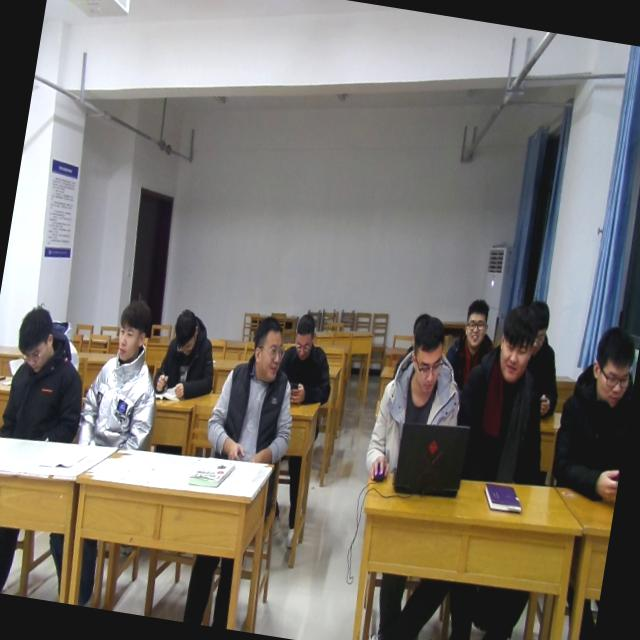down: (583, 318, 640, 406), (400, 307, 453, 393), (10, 299, 60, 375), (166, 304, 204, 359), (526, 294, 557, 354), (290, 309, 322, 361)
lookup: (492, 301, 542, 389), (108, 296, 157, 368), (456, 294, 494, 356)
sit: (445, 294, 569, 494), (362, 309, 477, 493), (544, 317, 640, 505), (201, 314, 309, 469), (77, 294, 171, 458), (0, 301, 95, 450), (437, 292, 505, 423), (514, 296, 576, 421), (271, 309, 344, 412), (152, 304, 224, 404)
